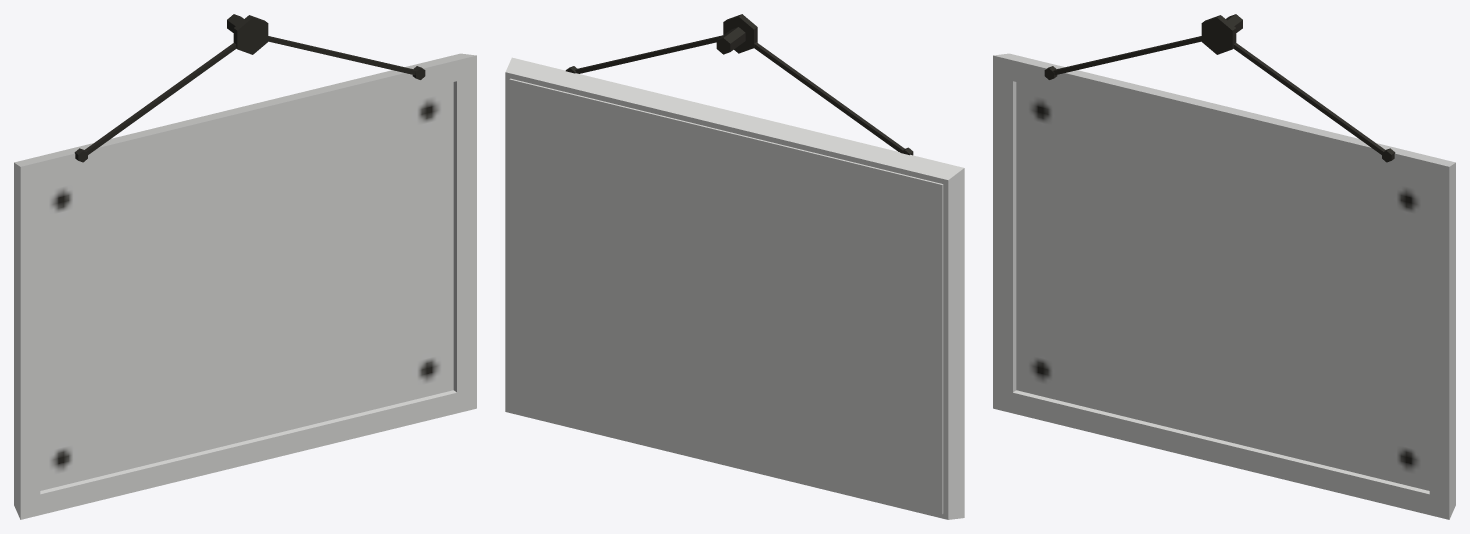
Rendered from SM_Sign_Blank_Enamel_01.fbx.
3 renders of one model, left to right at view 1: azimuth 30°, elevation 25°; view 2: azimuth 150°, elevation 25°; view 3: azimuth 330°, elevation 25°, orthographic.
Parts seen in each view (by area): view 1: SM_Sign_Blank_Enamel_01; view 2: SM_Sign_Blank_Enamel_01; view 3: SM_Sign_Blank_Enamel_01.
Part boxes in pixels (left/top/right/bottom): SM_Sign_Blank_Enamel_01: left=14, top=14, right=476, bottom=519; SM_Sign_Blank_Enamel_01: left=505, top=14, right=964, bottom=519; SM_Sign_Blank_Enamel_01: left=993, top=14, right=1455, bottom=519.
Bounding box in the file's own units: 0.46 × 0.433 × 0.0332.
Materials: 1 (1 with a texture image).
